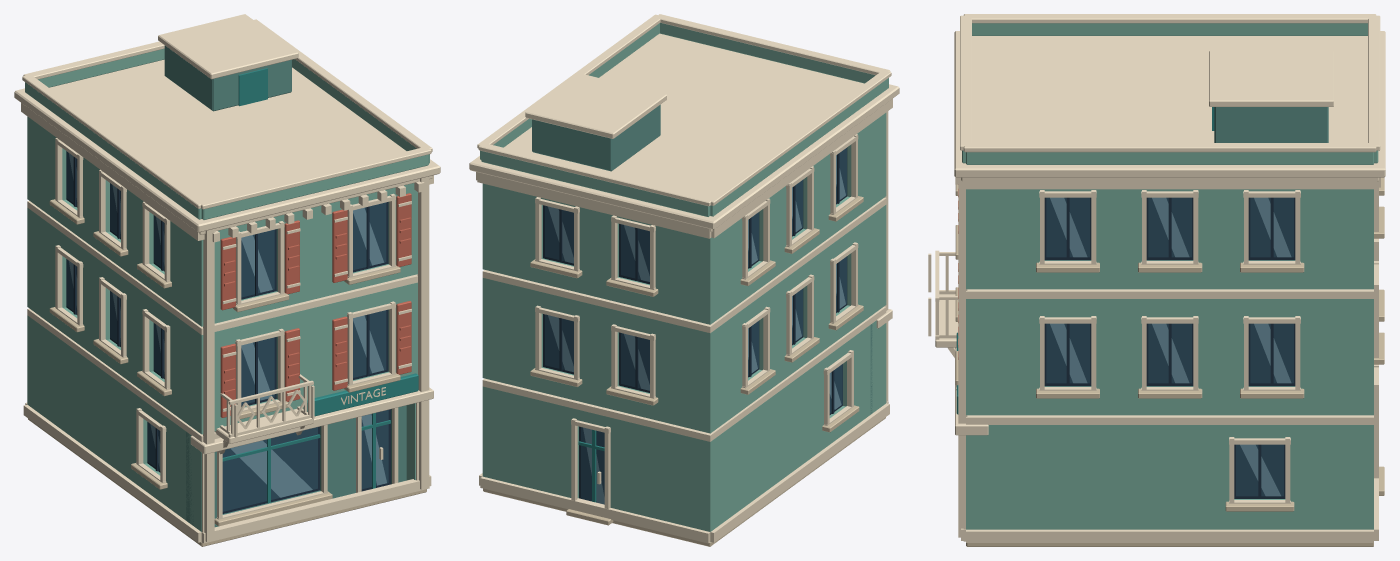
Rendered from vintage_clothing.glb.
The picture shows the model from 3 angles, left to right: view 1: azimuth 30°, elevation 25°; view 2: azimuth 150°, elevation 25°; view 3: azimuth 270°, elevation 25°; orthographic projection. The views are drawn at different scales.
Parts seen in each view (by area): view 1: VintageClothing_StaticMesh; view 2: VintageClothing_StaticMesh; view 3: VintageClothing_StaticMesh.
Boxes of the visible parts, box(x1,y1,x2,y2) form: VintageClothing_StaticMesh: box(14, 14, 440, 546); VintageClothing_StaticMesh: box(469, 14, 899, 546); VintageClothing_StaticMesh: box(928, 14, 1385, 546).
Bounding box in the file's own units: 7.32 × 10.65 × 10.2.
